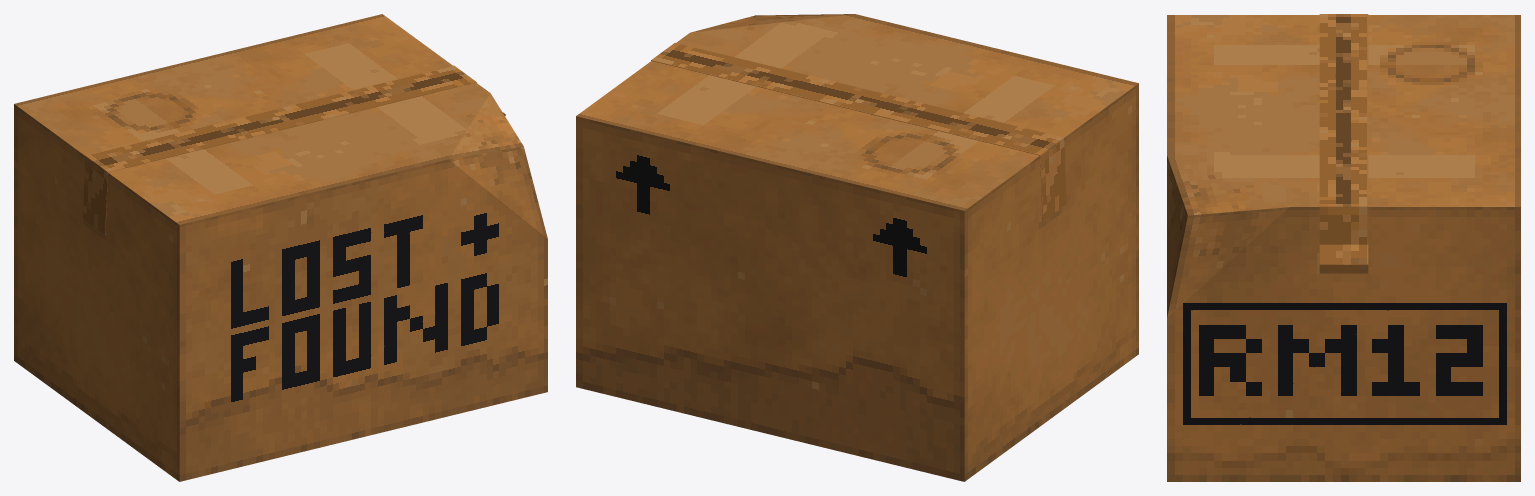
Rendered from SM_Motel_CardboardBox.glb.
3 renders of one model, left to right at view 1: azimuth 30°, elevation 25°; view 2: azimuth 150°, elevation 25°; view 3: azimuth 270°, elevation 25°, orthographic. The views are drawn at different scales.
Visible parts, largest first — view 1: SM_Motel_CardboardBox; view 2: SM_Motel_CardboardBox; view 3: SM_Motel_CardboardBox.
Part boxes in pixels (x1=…): SM_Motel_CardboardBox: x1=14, y1=14, x2=547, y2=481; SM_Motel_CardboardBox: x1=576, y1=14, x2=1138, y2=481; SM_Motel_CardboardBox: x1=1167, y1=14, x2=1520, y2=481.
Size of what is drawn, in the model's own units: 0.49 by 0.3008 by 0.35.
Materials: 2 (2 with a texture image).
